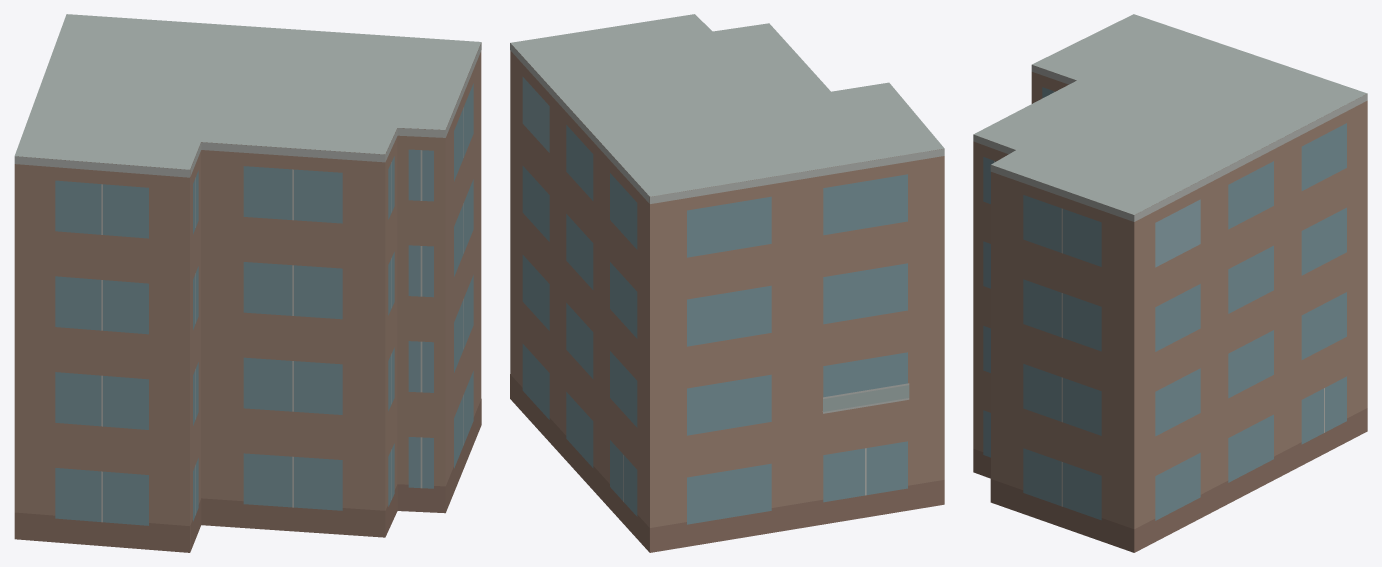
File: survey-upis-32747973.glb
3 renders of one model, left to right at view 1: azimuth 30°, elevation 25°; view 2: azimuth 150°, elevation 25°; view 3: azimuth 270°, elevation 25°, orthographic. The views are drawn at different scales.
Parts seen in each view (by area): view 1: survey-upis-32747973.tmp; view 2: survey-upis-32747973.tmp; view 3: survey-upis-32747973.tmp.
Boxes of the visible parts, x1=… form: survey-upis-32747973.tmp: x1=14, y1=14, x2=481, y2=552; survey-upis-32747973.tmp: x1=510, y1=14, x2=944, y2=552; survey-upis-32747973.tmp: x1=973, y1=14, x2=1367, y2=552.
Bounding box in the file's own units: 15.07 × 11.8 × 12.49.
